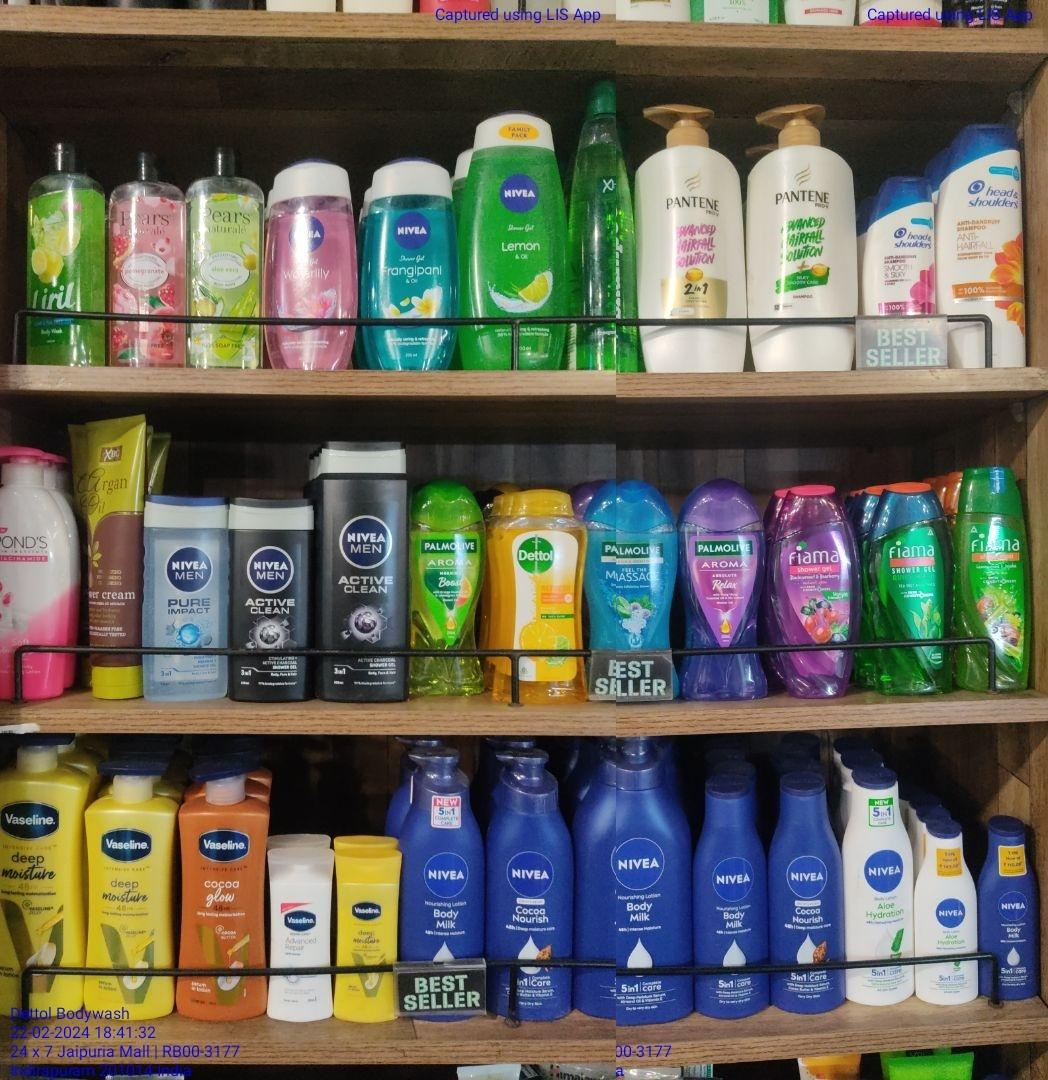Dettol_Bodywash_Refresh: (507, 483, 586, 704)
Nivea_Shower_Gel_Frangipani_and_Oil_250ML: (368, 168, 449, 373)
Nivea_Shower_Gel_Lemon_and_Oil_250ML: (463, 115, 559, 366)
Nivea_Shower_Gel_Waterlily_and_Oil_250ML: (265, 156, 348, 375)
Palmolive_Aroma_Moments_Feel_The_Massage_Shower_Gel_250ML: (616, 477, 677, 654)
Palmolive_Aroma_Morning_Tonic_Shower_Gel_250ML: (407, 483, 483, 698)
Palmolive_Aroma_Relax_250ML: (681, 482, 772, 700)
Pears_Naturale_Aloe_Vera_Body_Wash_250ML: (189, 148, 263, 373)
